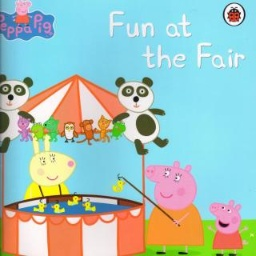Peppa: (207, 200, 245, 256)
